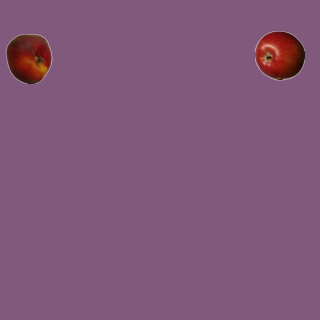Apple Braeburn: (254, 30, 304, 80)
Nectarine Flat: (3, 33, 53, 83)
